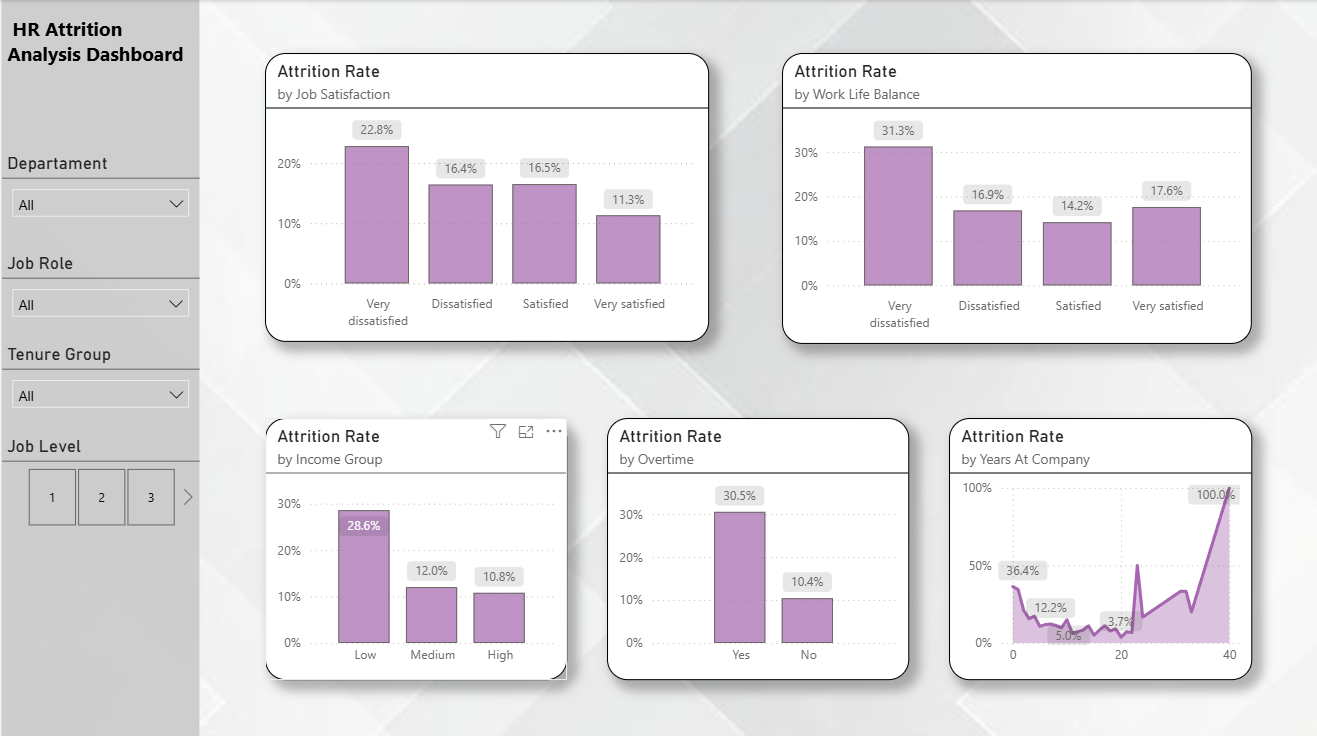

What the dashboard file says about the page in this screenshot:
{"tool":"powerbi","page":{"name":"Attrition Analysis","canvas":[1280,720],"ordinal":1},"visuals":[{"type":"shape","box":[0,0,192.3,720.2],"z":1000},{"type":"slicer","title":"Departament","fields":{"Values":["Employee.Department"]},"box":[0,148.6,192.3,111.4],"z":3000},{"type":"slicer","title":"Job Role","fields":{"Values":["Employee.JobRole"]},"box":[0,245.8,191.9,67.9],"z":4000},{"type":"slicer","title":"Job Level","fields":{"Values":["Employee.JobLevel"]},"box":[0,424.5,192.3,92.8],"z":5000},{"type":"textbox","box":[0,9.3,192.3,87.5],"z":6000},{"type":"slicer","title":"Tenure Group","fields":{"Values":["Employee.Tenure Group"]},"box":[0,334.3,192.3,71.6],"z":7000},{"type":"columnChart","title":"Attrition Rate","fields":{"Category":["Satisfaction.Label"],"Y":["Employee.Attrition Rate"]},"box":[255.8,51.6,431.9,281.1],"z":9000},{"type":"clusteredColumnChart","title":"Attrition Rate","fields":{"Category":["WorkLifeBalance.Label"],"Y":["Employee.Attrition Rate"]},"box":[758.7,51.6,457.1,283],"z":10000},{"type":"clusteredColumnChart","title":"Attrition Rate","fields":{"Category":["Employee.Income Group"],"Y":["Employee.Attrition Rate"]},"box":[255.8,406.6,293.7,254.8],"z":11000},{"type":"clusteredColumnChart","title":"Attrition Rate","fields":{"Category":["Employee.OverTime"],"Y":["Employee.Attrition Rate"]},"box":[588.4,406.6,293.7,254.8],"z":14000},{"type":"lineChart","title":"Attrition Rate","fields":{"Category":["Employee.YearsAtCompany"],"Y":["Employee.Attrition Rate"]},"box":[921.1,406.6,294.7,254.8],"z":15000}]}

Visuals, with their boxes in screenshot pixels (x1, y1, x2, y2), scaled from the page's 1280x720 canvas onto the 1317x736 screenshot:
shape: (left=0, top=0, right=198, bottom=735)
"Departament" slicer: (left=0, top=152, right=198, bottom=266)
"Job Role" slicer: (left=0, top=251, right=197, bottom=321)
"Job Level" slicer: (left=0, top=434, right=198, bottom=529)
textbox: (left=0, top=10, right=198, bottom=99)
"Tenure Group" slicer: (left=0, top=342, right=198, bottom=415)
"Attrition Rate" columnChart: (left=263, top=53, right=708, bottom=340)
"Attrition Rate" clusteredColumnChart: (left=781, top=53, right=1251, bottom=342)
"Attrition Rate" clusteredColumnChart: (left=263, top=416, right=565, bottom=676)
"Attrition Rate" clusteredColumnChart: (left=605, top=416, right=908, bottom=676)
"Attrition Rate" lineChart: (left=948, top=416, right=1251, bottom=676)
